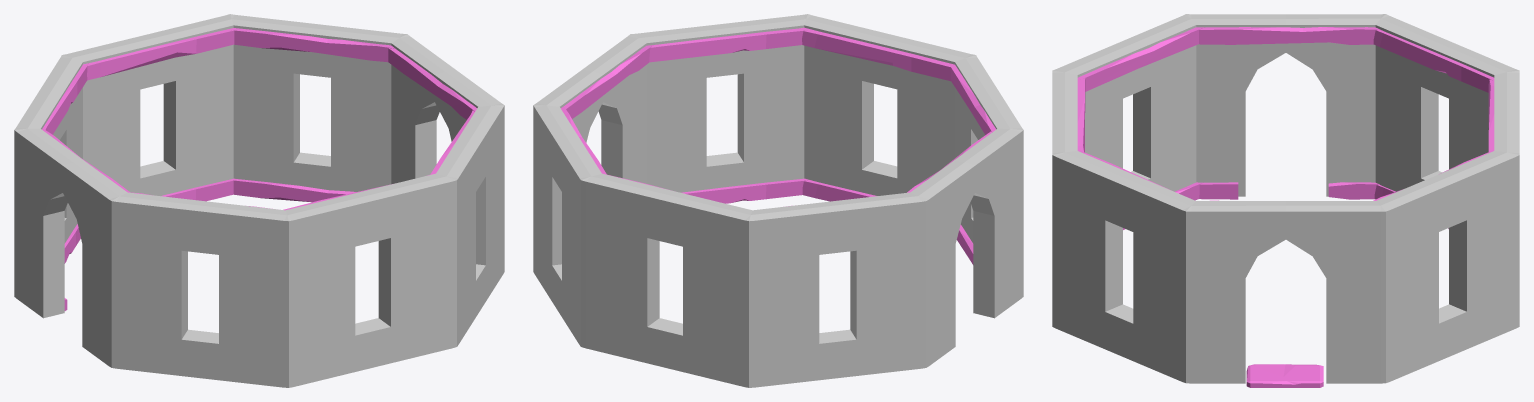
File: SM_Tower_Round_7m_Entrance_Walkthrough_Fantasy_Base.fbx
3 renders of one model, left to right at view 1: azimuth 30°, elevation 25°; view 2: azimuth 150°, elevation 25°; view 3: azimuth 270°, elevation 25°, orthographic. The views are drawn at different scales.
Visible parts, largest first — view 1: SM_Tower_Round_7m_Entrance_Walkthrough_Fantasy_Base; view 2: SM_Tower_Round_7m_Entrance_Walkthrough_Fantasy_Base; view 3: SM_Tower_Round_7m_Entrance_Walkthrough_Fantasy_Base.
Boxes of the visible parts, bbox=[...] form: SM_Tower_Round_7m_Entrance_Walkthrough_Fantasy_Base: bbox=[14, 14, 504, 387]; SM_Tower_Round_7m_Entrance_Walkthrough_Fantasy_Base: bbox=[533, 14, 1023, 387]; SM_Tower_Round_7m_Entrance_Walkthrough_Fantasy_Base: bbox=[1052, 14, 1519, 387].
Bounding box in the file's own units: 7.57 × 3.03 × 7.4.
